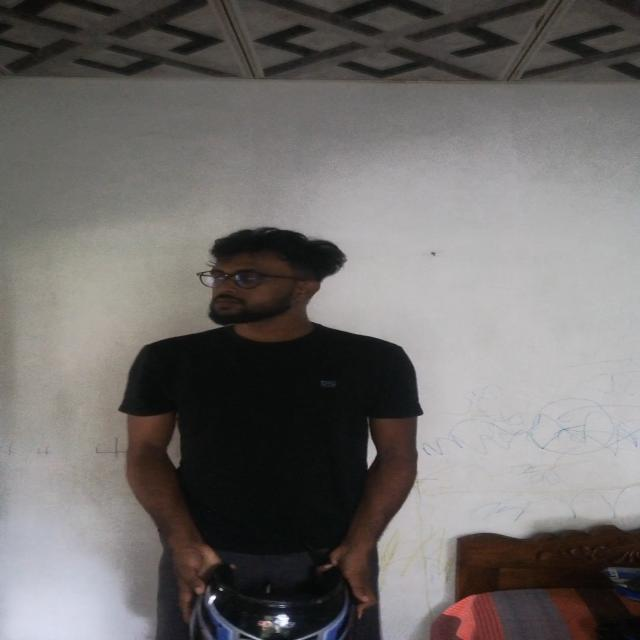Person: (100, 221, 423, 640)
